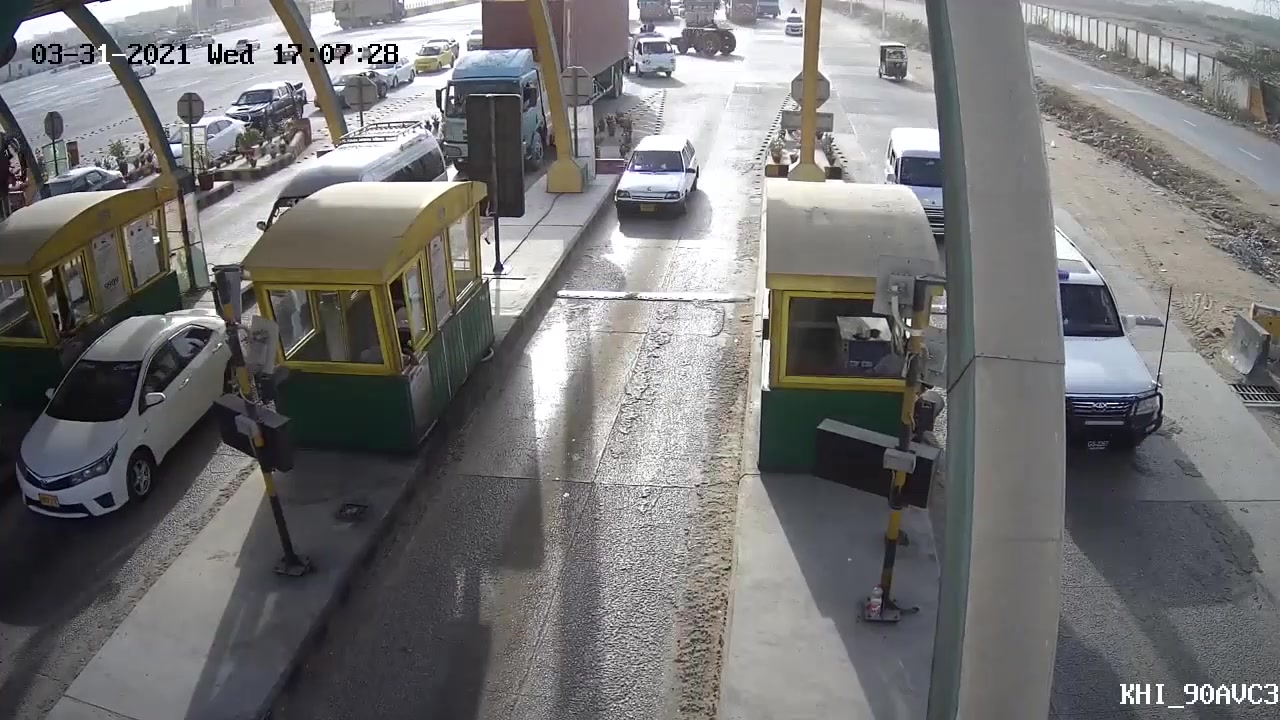F1: (600, 124, 701, 240)
